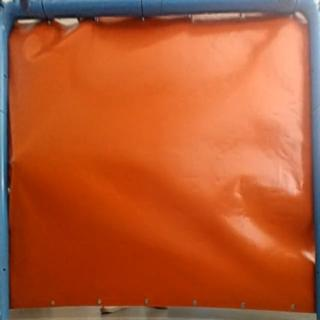Hit-hRxx: (7, 152, 19, 168)
